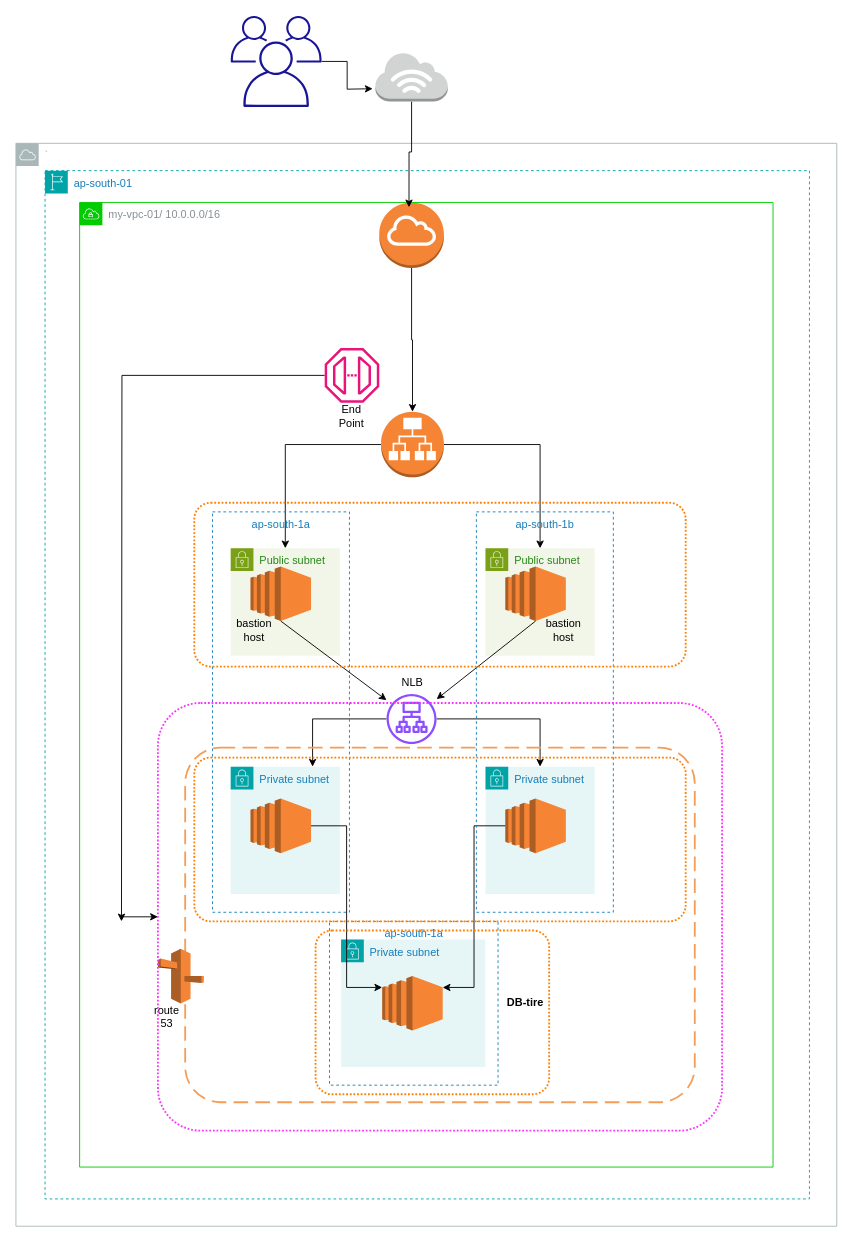
This 853x1242 diagram has some shape labels left out. The centre of each missing label's shape, as x and y in pixels:
ALB: point (412, 444)
app-tire: point (439, 839)
IG: point (411, 235)
users: point (275, 60)
web-tire: point (439, 584)
